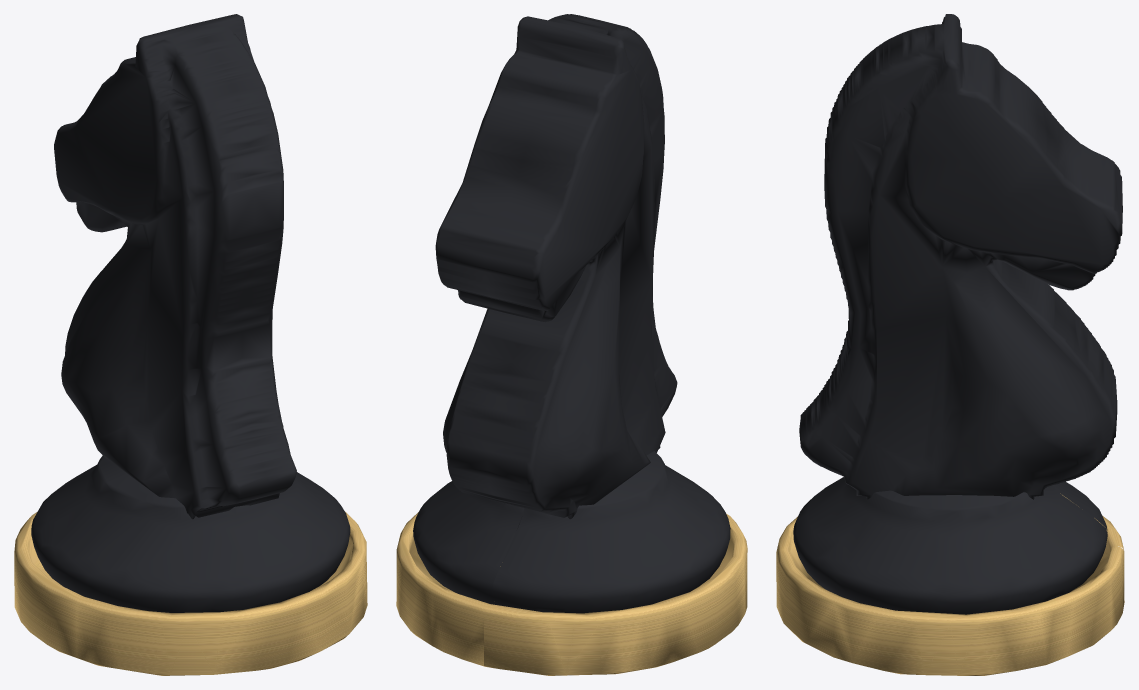
Rendered from knight-black.glb.
3 views of the same model, side by side, from view 1: azimuth 30°, elevation 25°; view 2: azimuth 150°, elevation 25°; view 3: azimuth 270°, elevation 25° (orthographic).
Parts seen in each view (by area): view 1: Aurum Noir – Knight; view 2: Aurum Noir – Knight; view 3: Aurum Noir – Knight.
Part boxes in pixels (x1,y1,x2,y2): Aurum Noir – Knight: (14, 14, 367, 675); Aurum Noir – Knight: (396, 14, 747, 675); Aurum Noir – Knight: (776, 14, 1124, 675).
Bounding box in the file's own units: 0.6873 × 1.24 × 0.6881.
Materials: 2 (1 with a texture image).
